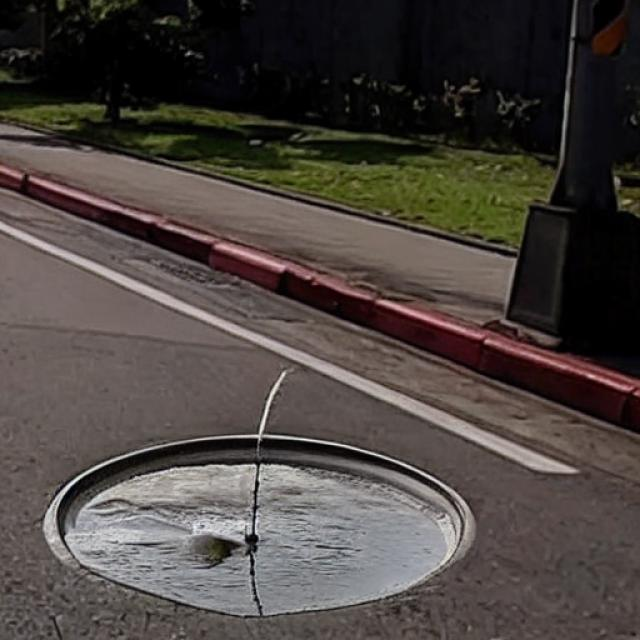puddle: (61, 438, 471, 618)
